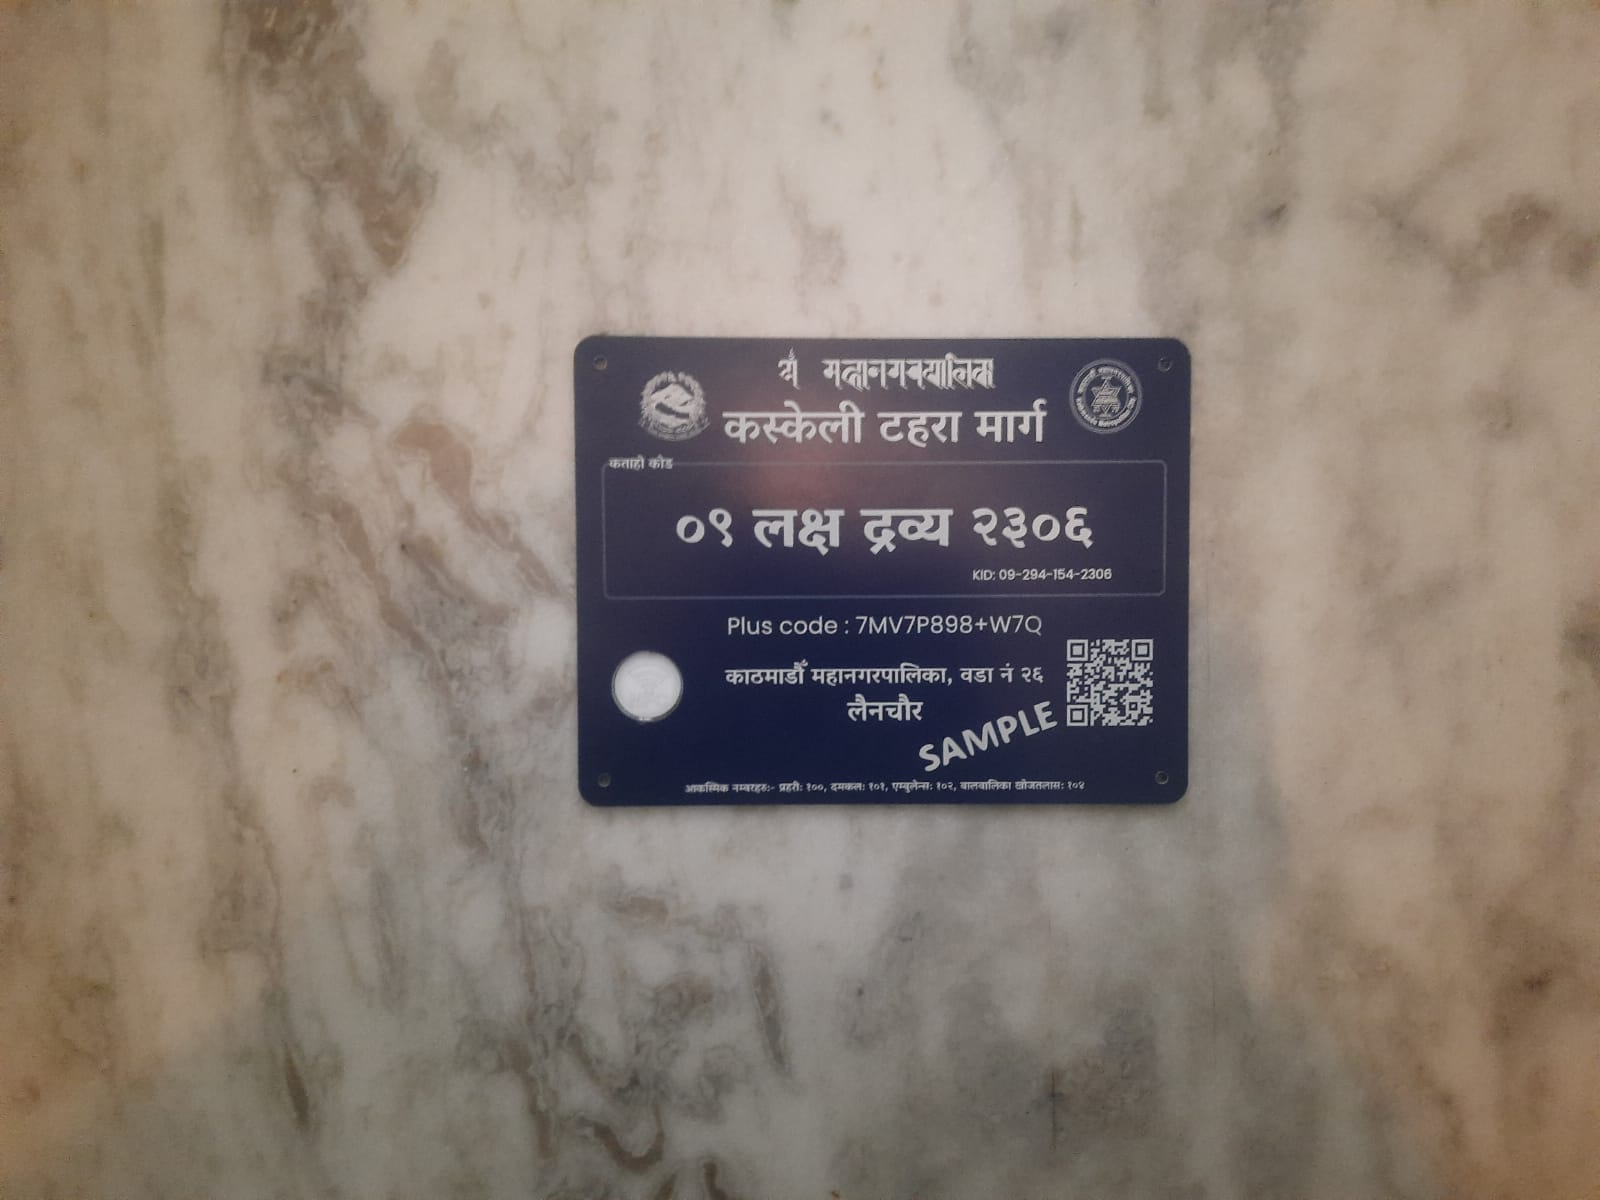Plate: (566, 332, 1196, 808)
